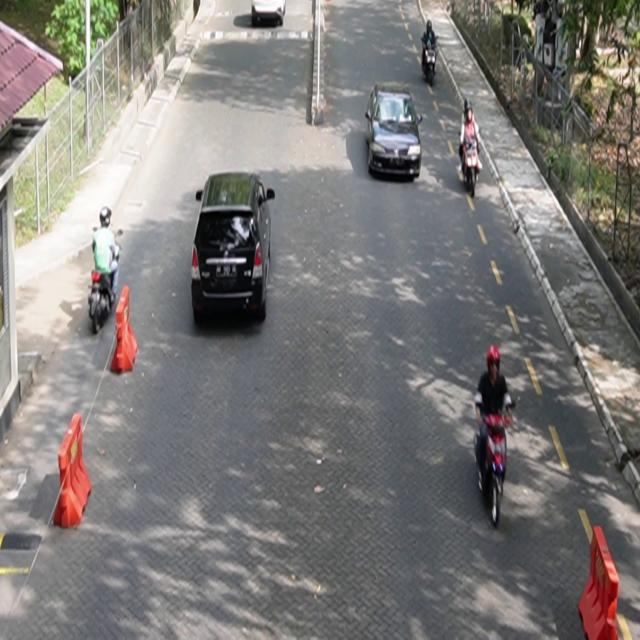car: (191, 171, 276, 325), (366, 82, 424, 182), (252, 1, 287, 28)
